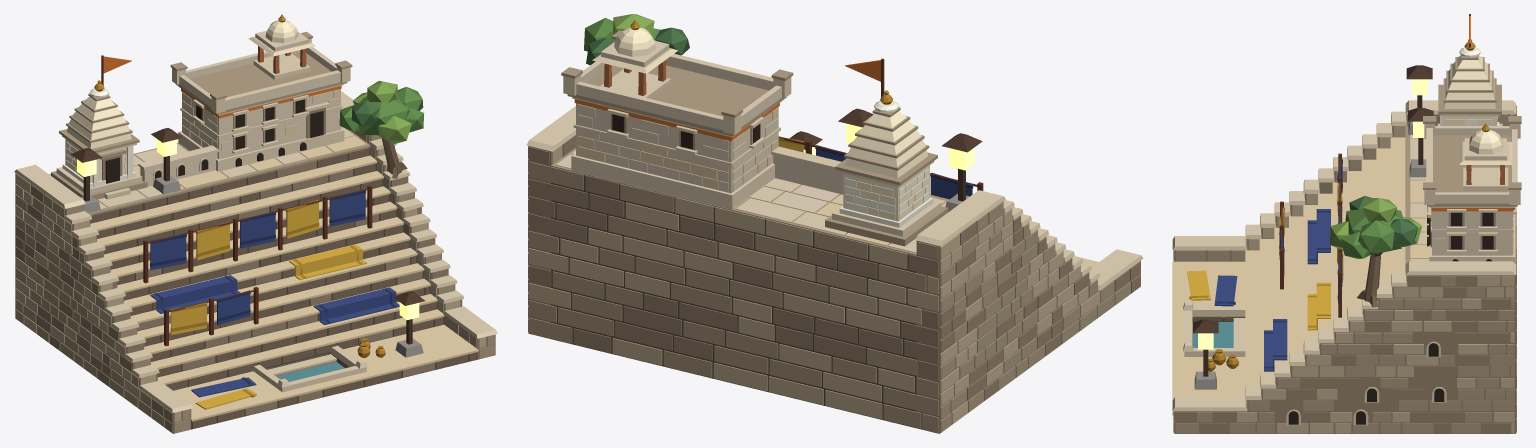
Rendered from ghat_town.glb.
The picture shows the model from 3 angles, left to right: view 1: azimuth 30°, elevation 25°; view 2: azimuth 150°, elevation 25°; view 3: azimuth 270°, elevation 25°; orthographic projection. The views are drawn at different scales.
Visible parts, largest first — view 1: ghat_town_GT_Cream, ghat_town_GT_StoneLight, ghat_town_GT_RiserStone, ghat_town_GT_StoneMid, ghat_town_GT_StoneShade, ghat_town_GT_Plaster, ghat_town_GT_Indigo, ghat_town_GT_Stone, ghat_town_GT_Turmeric, ghat_town_GT_RiserJoint, ghat_town_GT_Ivory, ghat_town_GT_TimberDark (+14 smaller); view 2: ghat_town_GT_StoneMid, ghat_town_GT_Stone, ghat_town_GT_StoneShade, ghat_town_GT_StoneLight, ghat_town_GT_Plaster, ghat_town_GT_RiserJoint, ghat_town_GT_Ivory, ghat_town_GT_Cream, ghat_town_GT_Porcelain, ghat_town_WarmMini_wooddark, ghat_town_GT_Saffron, ghat_town_GT_LeafFreshDark (+3 smaller); view 3: ghat_town_GT_Cream, ghat_town_GT_StoneMid, ghat_town_GT_StoneShade, ghat_town_GT_StoneLight, ghat_town_GT_Stone, ghat_town_GT_Plaster, ghat_town_GT_Ivory, ghat_town_GT_Indigo, ghat_town_GT_LeafFresh, ghat_town_GT_Turmeric, ghat_town_GT_Dark, ghat_town_WarmMini_wooddark (+9 smaller).
Boxes of the visible parts, bbox=[...] form: ghat_town_GT_Cream: bbox=[90, 115, 478, 421]; ghat_town_GT_StoneLight: bbox=[14, 36, 497, 412]; ghat_town_GT_RiserStone: bbox=[90, 148, 476, 428]; ghat_town_GT_StoneMid: bbox=[15, 31, 494, 433]; ghat_town_GT_StoneShade: bbox=[15, 132, 495, 433]; ghat_town_GT_Plaster: bbox=[50, 30, 367, 387]; ghat_town_GT_Indigo: bbox=[150, 193, 399, 397]; ghat_town_GT_Stone: bbox=[15, 135, 485, 422]; ghat_town_GT_Turmeric: bbox=[171, 203, 366, 409]; ghat_town_GT_RiserJoint: bbox=[90, 148, 477, 429]; ghat_town_GT_Ivory: bbox=[65, 20, 298, 182]; ghat_town_GT_TimberDark: bbox=[101, 55, 372, 346]; ghat_town_GT_StoneMid: bbox=[528, 30, 1130, 432]; ghat_town_GT_Stone: bbox=[528, 145, 1099, 424]; ghat_town_GT_StoneShade: bbox=[528, 135, 1140, 433]; ghat_town_GT_StoneLight: bbox=[526, 39, 1143, 290]; ghat_town_GT_Plaster: bbox=[556, 40, 916, 252]; ghat_town_GT_RiserJoint: bbox=[551, 176, 916, 428]; ghat_town_GT_Ivory: bbox=[614, 27, 929, 221]; ghat_town_GT_Cream: bbox=[577, 107, 1098, 267]; ghat_town_GT_Porcelain: bbox=[839, 101, 933, 227]; ghat_town_WarmMini_wooddark: bbox=[789, 108, 982, 201]; ghat_town_GT_Saffron: bbox=[574, 60, 880, 141]; ghat_town_GT_LeafFreshDark: bbox=[586, 27, 689, 65]; ghat_town_GT_Cream: bbox=[1172, 137, 1513, 415]; ghat_town_GT_StoneMid: bbox=[1173, 55, 1521, 433]; ghat_town_GT_StoneShade: bbox=[1174, 114, 1516, 433]; ghat_town_GT_StoneLight: bbox=[1172, 100, 1520, 425]; ghat_town_GT_Stone: bbox=[1237, 114, 1516, 433]; ghat_town_GT_Plaster: bbox=[1183, 126, 1517, 351]; ghat_town_GT_Ivory: bbox=[1442, 55, 1502, 154]; ghat_town_GT_Indigo: bbox=[1214, 165, 1342, 371]; ghat_town_GT_LeafFresh: bbox=[1341, 209, 1402, 258]; ghat_town_GT_Turmeric: bbox=[1187, 189, 1343, 330]; ghat_town_GT_Dark: bbox=[1288, 207, 1514, 424]; ghat_town_WarmMini_wooddark: bbox=[1193, 65, 1433, 376].
Size of the model in its own units: 3.82 by 2.8 by 3.12.
